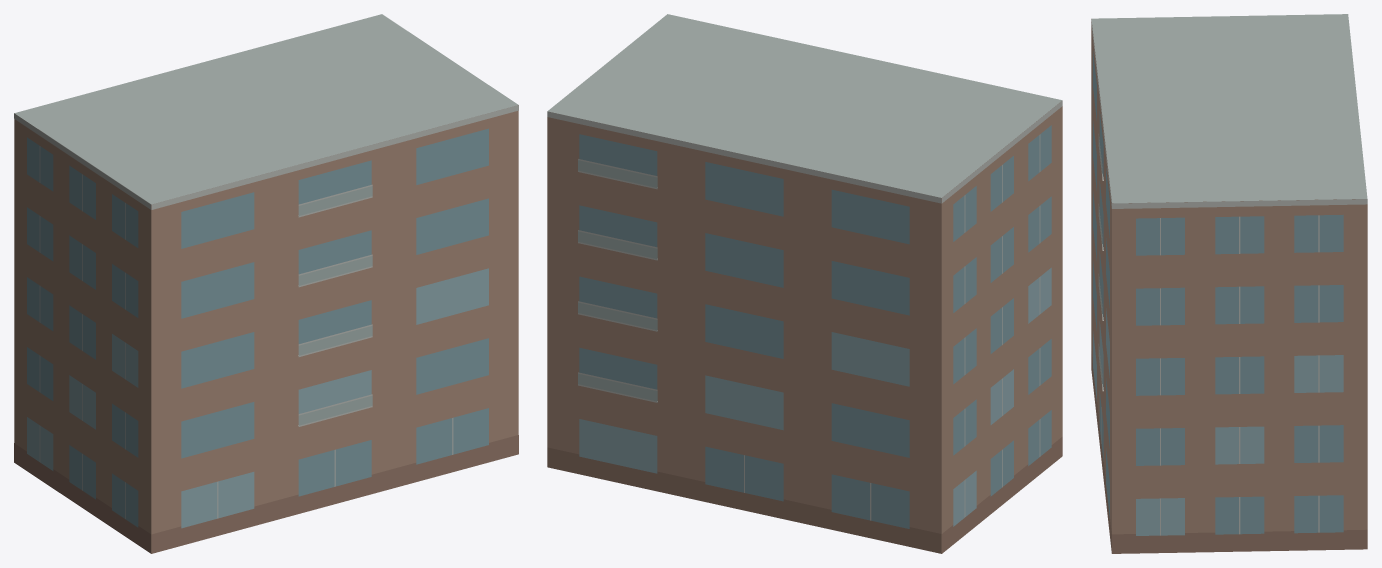
The model's file is survey-upis-32644435.glb.
3 views of the same model, side by side, from view 1: azimuth 30°, elevation 25°; view 2: azimuth 150°, elevation 25°; view 3: azimuth 270°, elevation 25° (orthographic).
Visible parts, largest first — view 1: survey-upis-32644435.tmp; view 2: survey-upis-32644435.tmp; view 3: survey-upis-32644435.tmp.
Part boxes in pixels (box(x1,y1,x2,y2)): survey-upis-32644435.tmp: box(14, 14, 518, 553); survey-upis-32644435.tmp: box(547, 14, 1062, 553); survey-upis-32644435.tmp: box(1091, 14, 1367, 553).
Size of the model in its own units: 17.69 by 15.25 by 10.9.
